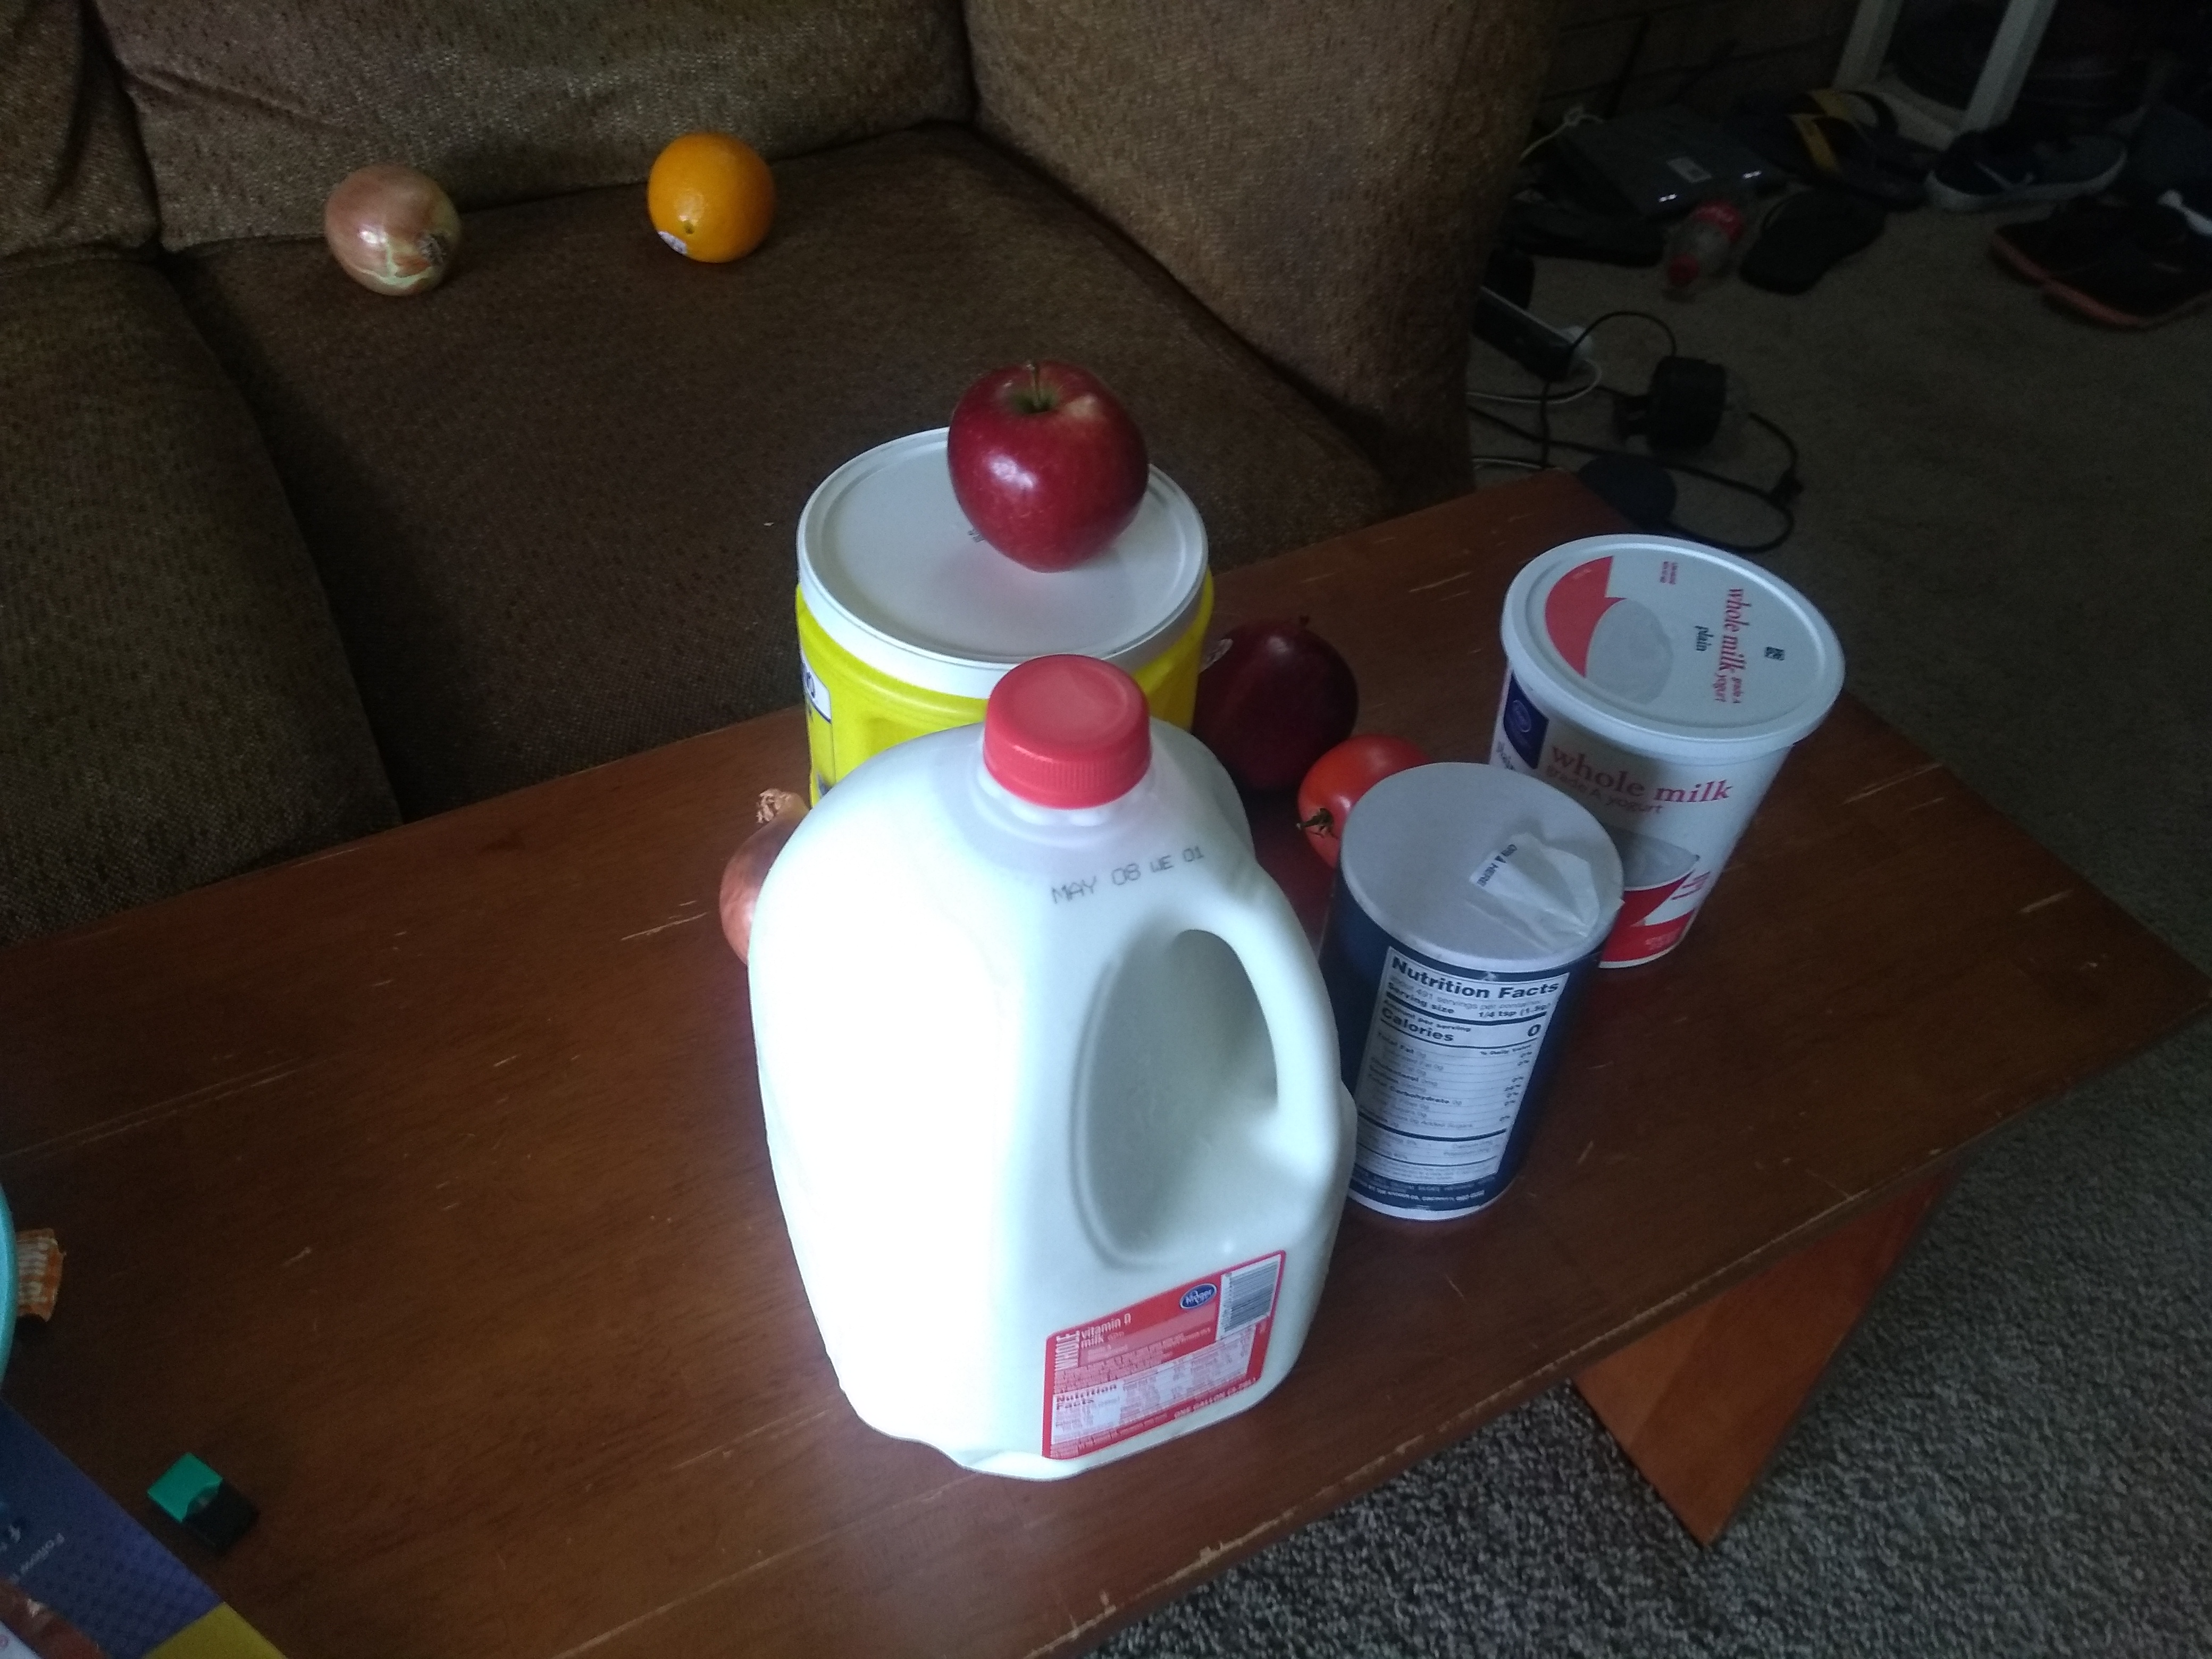apple: (934, 359, 1167, 556), (1195, 606, 1350, 758)
milk: (775, 669, 1350, 1466)
onion: (314, 162, 463, 301), (704, 786, 829, 946)
orange: (641, 134, 787, 261)
salt: (1324, 763, 1615, 1239)
tomato: (1301, 728, 1423, 835)
yogurt: (1527, 521, 1836, 943)
